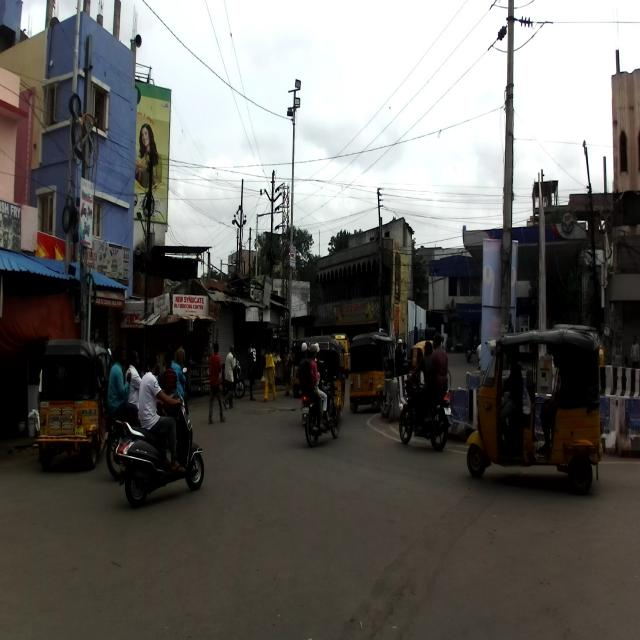autorickshaw: (465, 325, 603, 492), (34, 338, 112, 472), (347, 332, 396, 412)
motorcycle: (300, 376, 342, 448)
motorcycle_TVS: (398, 370, 453, 450)
scooter: (114, 387, 205, 507)
